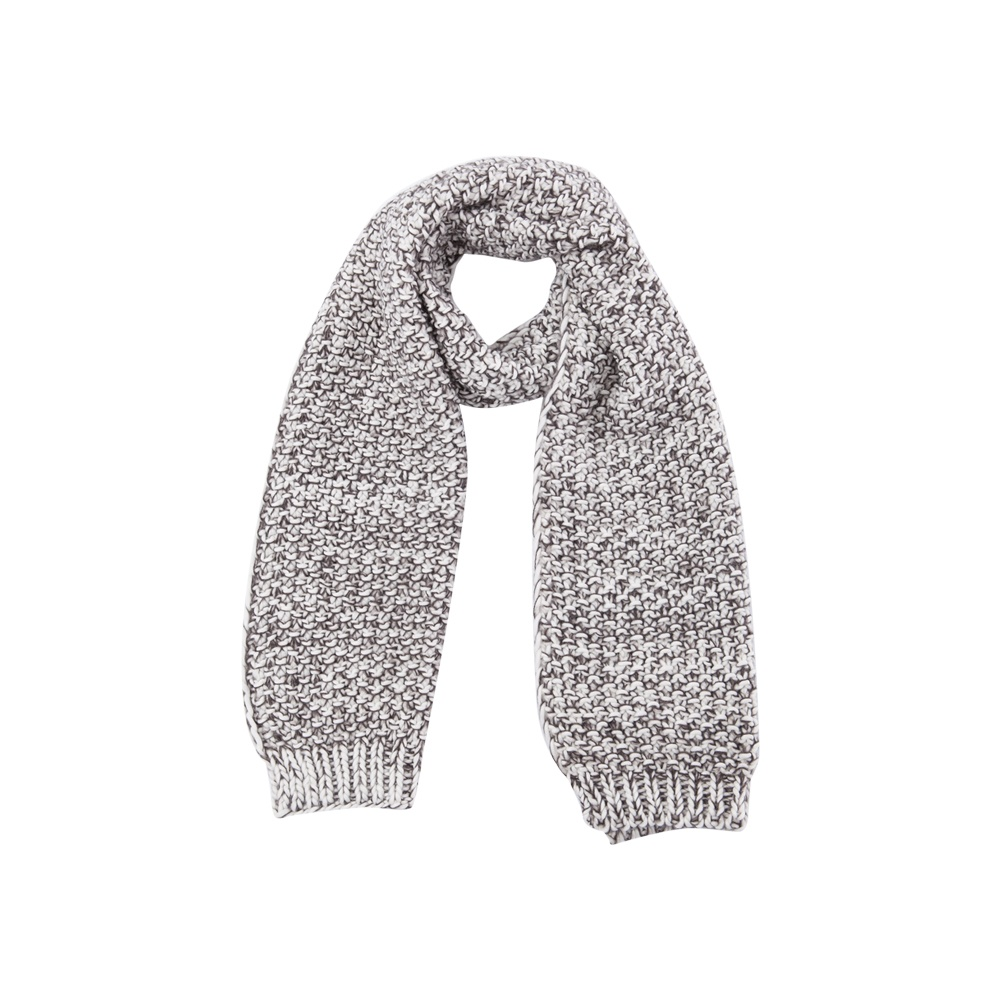flexible: (235, 153, 763, 876)
